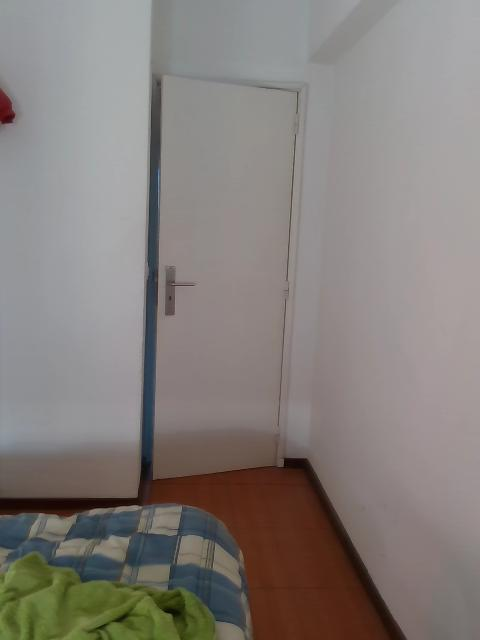door: (151, 74, 298, 480)
